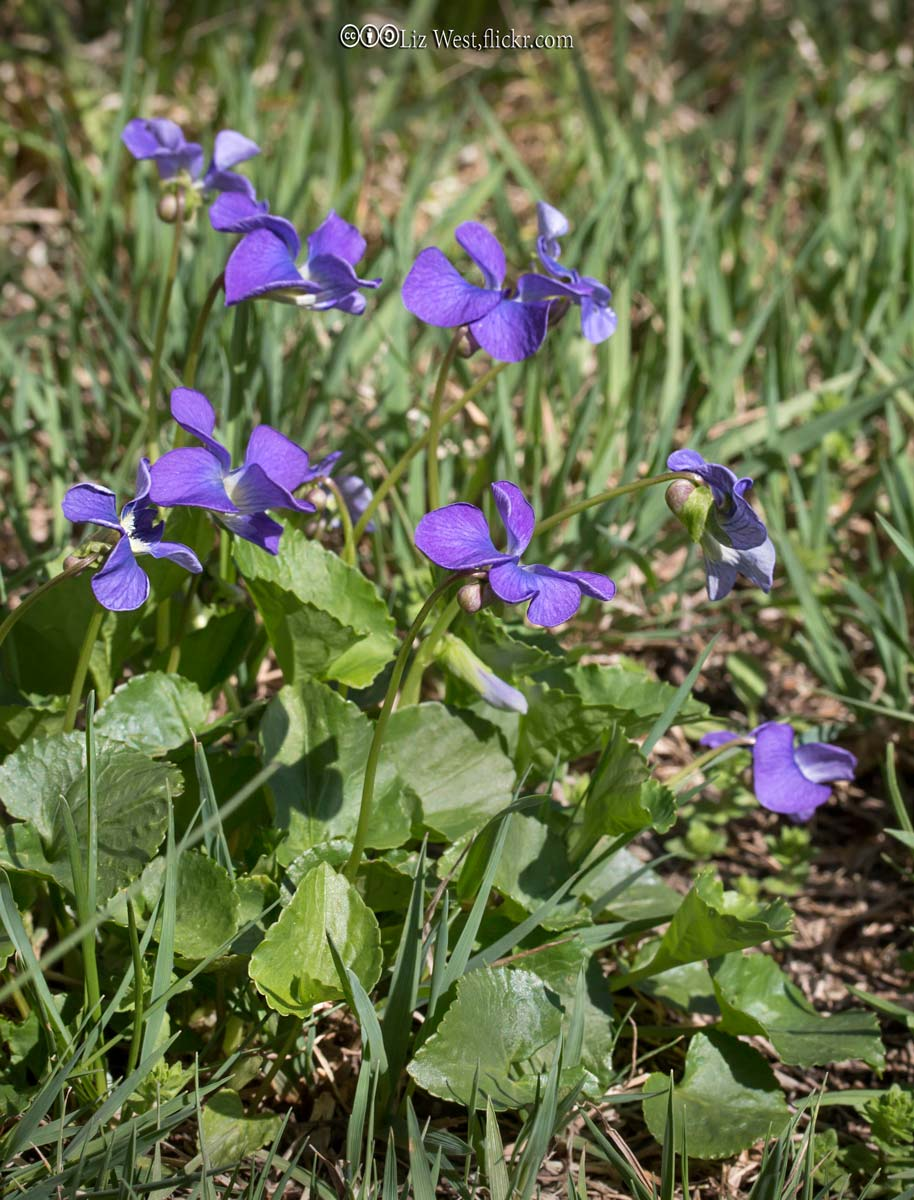violet: (384, 208, 608, 391), (421, 455, 611, 631), (657, 439, 814, 646), (153, 391, 332, 558), (202, 207, 379, 356), (48, 484, 195, 627), (731, 692, 866, 842), (114, 105, 281, 211)
